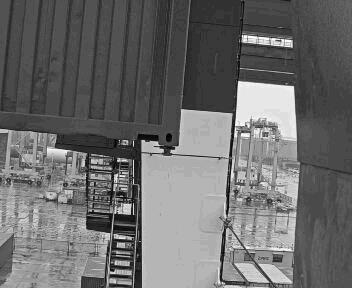twist_lock_1: (156, 144, 180, 164)
